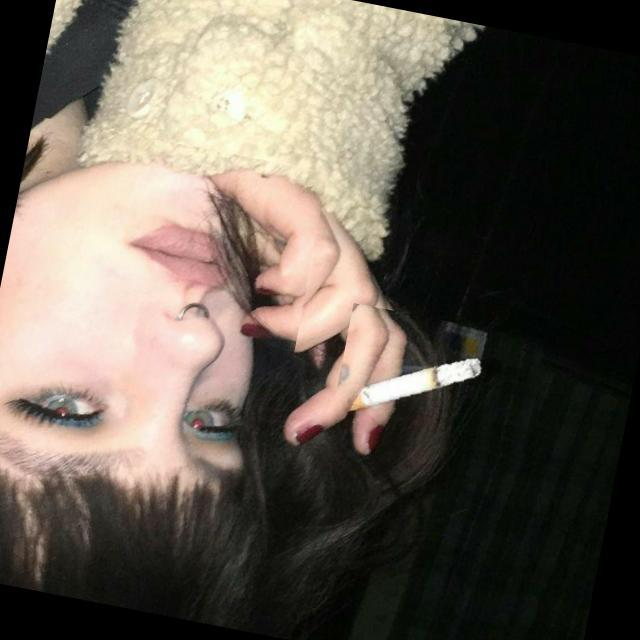cigarette: (328, 303, 556, 475)
